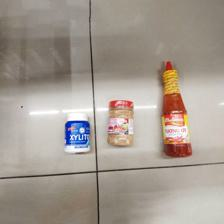Hao_hao: (105, 95, 138, 148)
Tuong: (159, 59, 195, 160)
Xylitol_blue: (61, 109, 93, 154)
